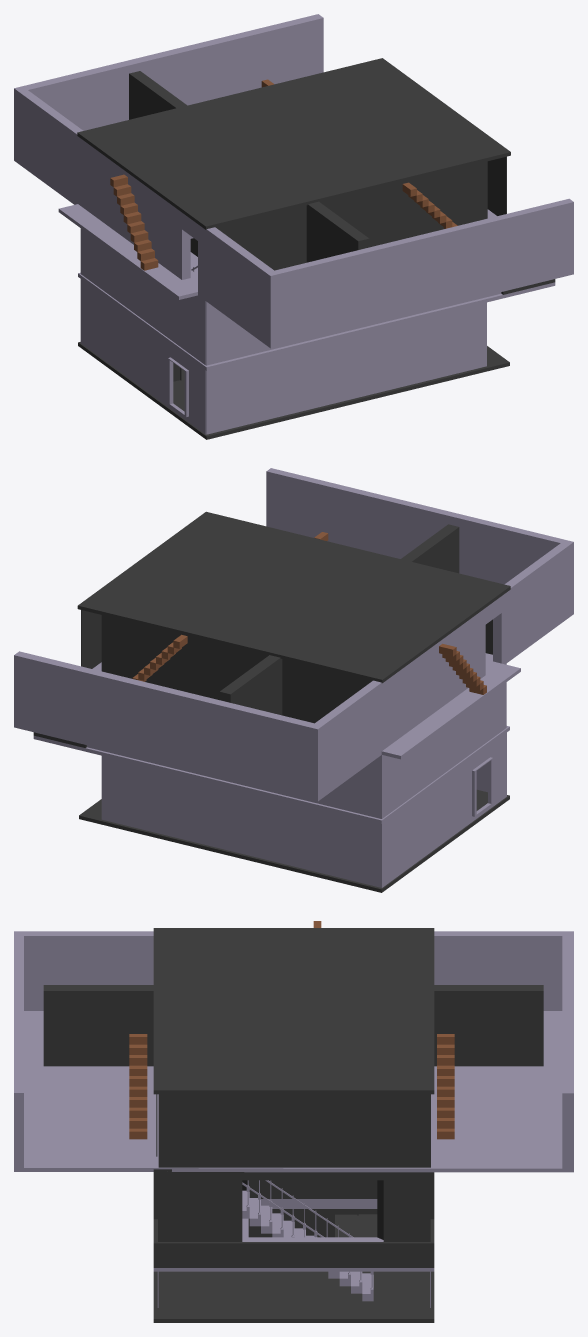
The model's file is damn1 (1).fbx.
3 views of the same model, one above another, from view 1: azimuth 30°, elevation 25°; view 2: azimuth 150°, elevation 25°; view 3: azimuth 270°, elevation 25° (orthographic). The views are drawn at different scales.
Visible parts, largest first — view 1: YAKA; view 2: YAKA; view 3: YAKA.
Boxes of the visible parts, x1,y1,x2,y2 form: YAKA: (14, 14, 573, 439); YAKA: (14, 468, 573, 892); YAKA: (14, 921, 573, 1322).
Size of what is drawn, in the model's own units: 9944 by 5508 by 11993.
